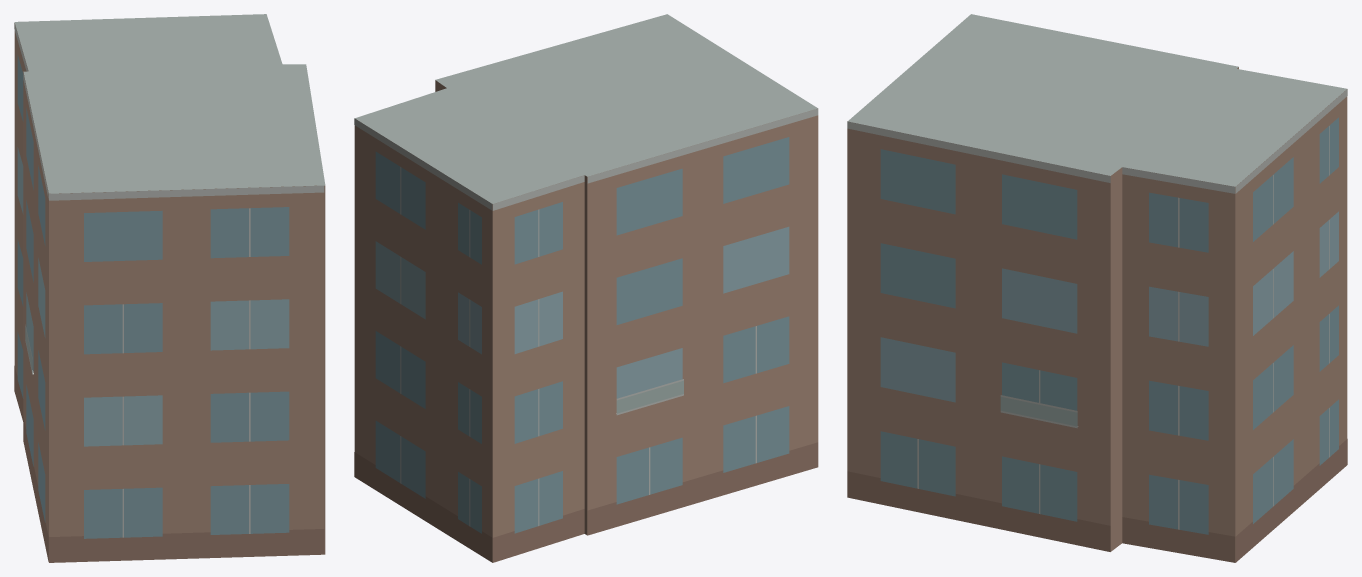
Rendered from survey-upis-32657592.glb.
3 renders of one model, left to right at view 1: azimuth 30°, elevation 25°; view 2: azimuth 150°, elevation 25°; view 3: azimuth 270°, elevation 25°, orthographic. The views are drawn at different scales.
Visible parts, largest first — view 1: survey-upis-32657592.tmp; view 2: survey-upis-32657592.tmp; view 3: survey-upis-32657592.tmp.
Boxes of the visible parts, left/top/right/bottom form: survey-upis-32657592.tmp: left=14, top=14, right=325, bottom=562; survey-upis-32657592.tmp: left=354, top=14, right=818, bottom=562; survey-upis-32657592.tmp: left=847, top=14, right=1347, bottom=562.
Bounding box in the file's own units: 12.62 × 12.8 × 15.43.
